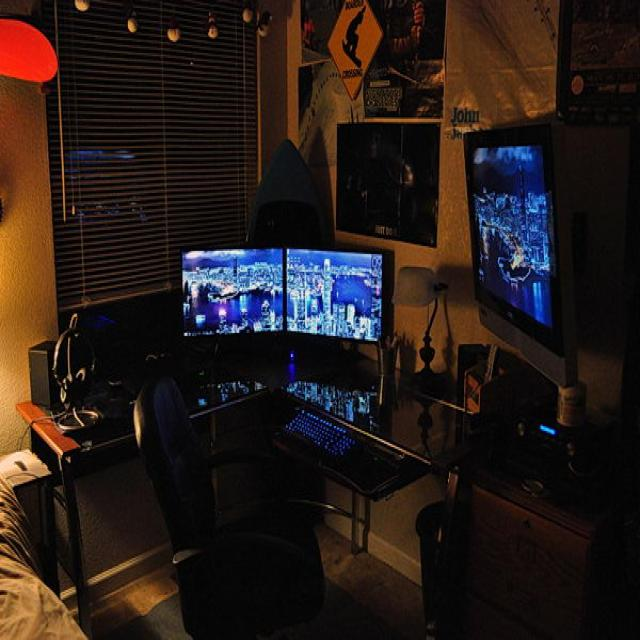Bottle: (542, 342, 588, 492)
Table: (24, 346, 640, 617)
chair: (139, 342, 323, 640)
